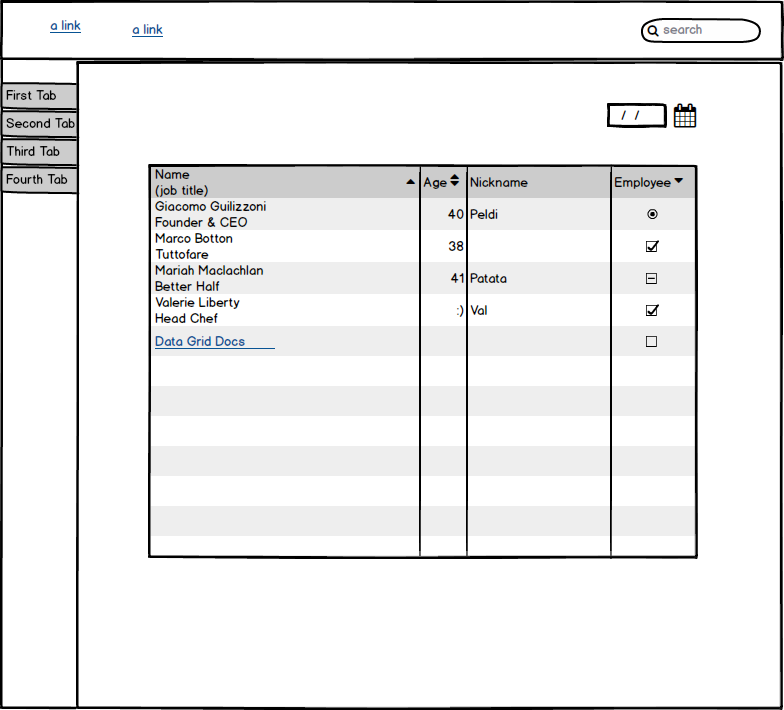date_picker: (598, 97, 704, 133)
navlink: (41, 13, 90, 40), (122, 21, 174, 41)
search: (635, 14, 766, 46)
sidebar: (1, 73, 82, 203)
table: (142, 161, 704, 562)
